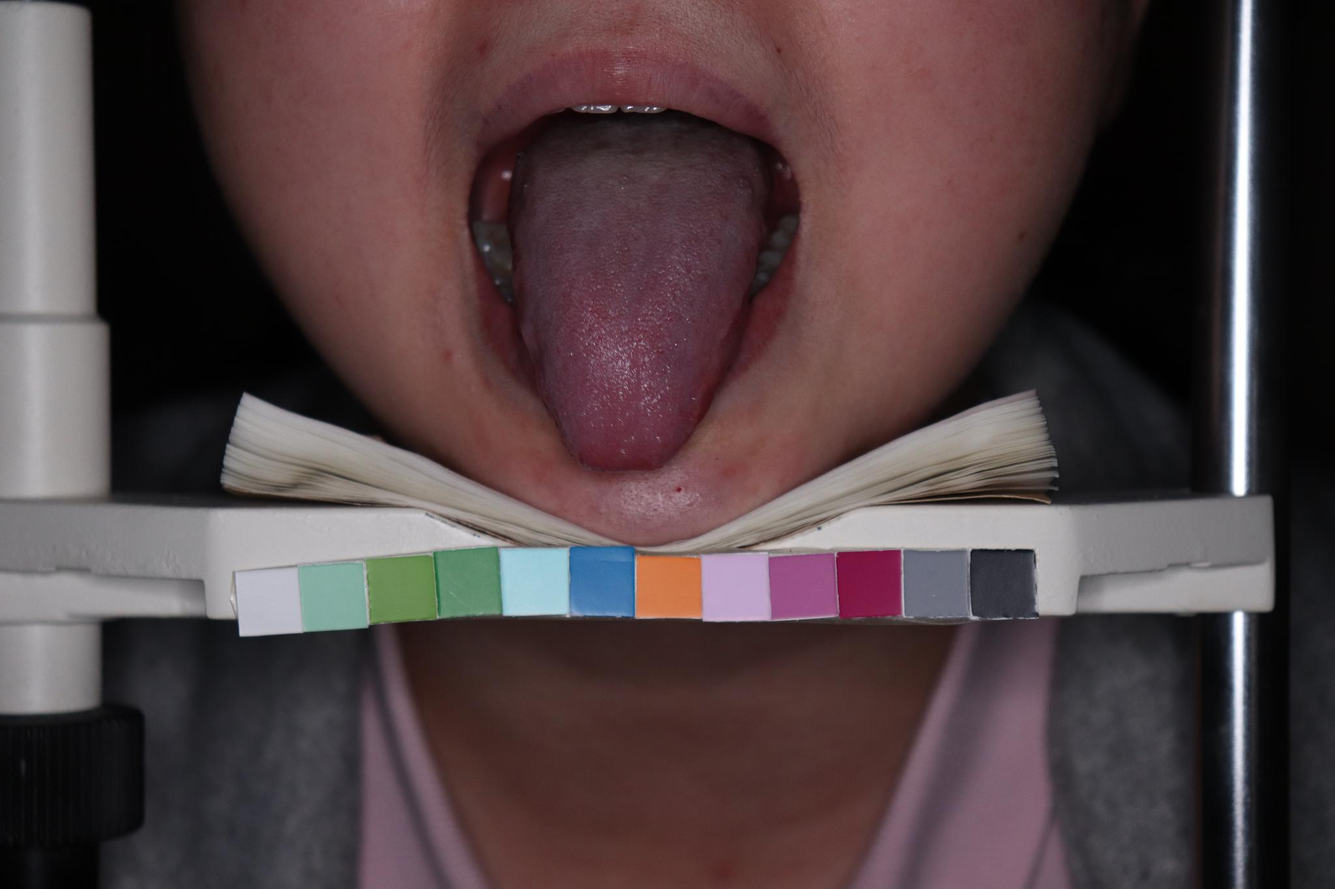baitaishe: (521, 117, 769, 474)
shoushe: (521, 117, 769, 474)
zishe: (521, 117, 769, 474)
